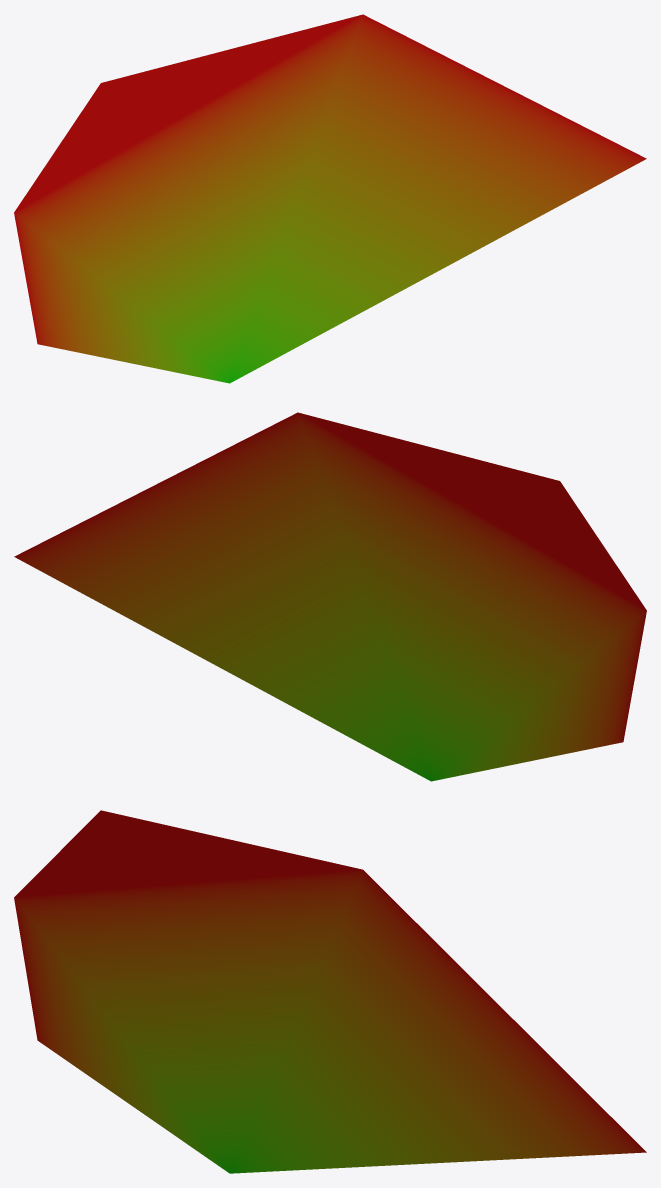
File: Dead Finish_LOD3_Var9_ucokaamia.fbx
The picture shows the model from 3 angles, top to bottom: view 1: azimuth 30°, elevation 25°; view 2: azimuth 150°, elevation 25°; view 3: azimuth 330°, elevation 25°; orthographic projection.
Parts seen in each view (by area): view 1: _6mmz_Var9_LOD3; view 2: _6mmz_Var9_LOD3; view 3: _6mmz_Var9_LOD3.
Part boxes in pixels (left/top/right/bottom): _6mmz_Var9_LOD3: left=14, top=14, right=646, bottom=383; _6mmz_Var9_LOD3: left=14, top=412, right=646, bottom=781; _6mmz_Var9_LOD3: left=14, top=810, right=646, bottom=1173.
Bounding box in the file's own units: 45.1 × 22.91 × 7.44e-06.
